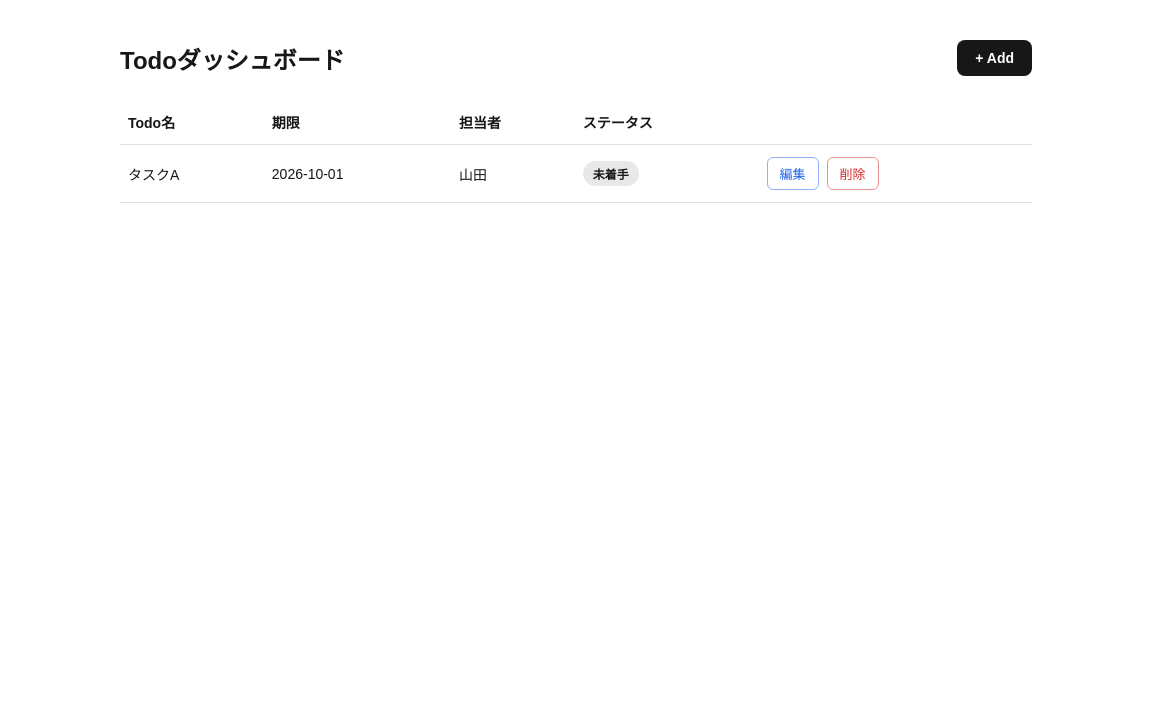
TodoDashboard › opens the modal on Add click, and adds the saved todo to the list on success
The width and height of the screenshot is (1152, 720).
Click the button "+ Add": (995, 58) [957, 40, 1032, 76]
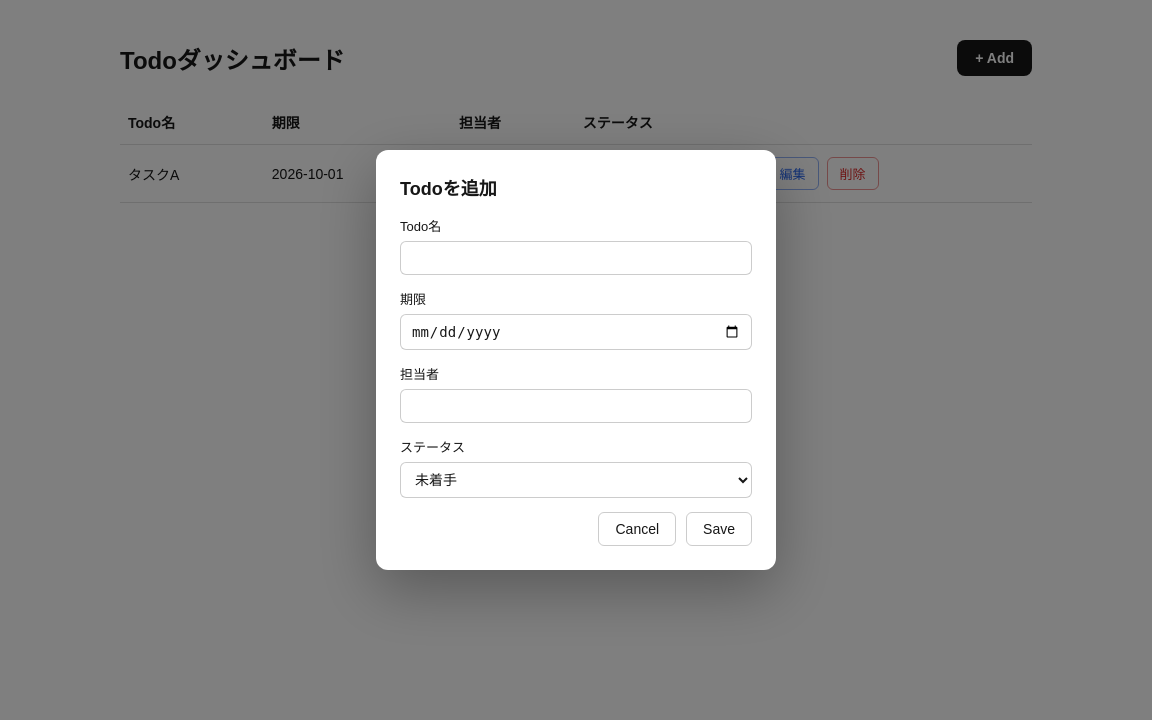
Check: the heading "Todoを追加" is shown, box [400, 179, 497, 199]
In the field labelled "Todo名": (576, 258) [400, 241, 752, 275], type "新規タスク"
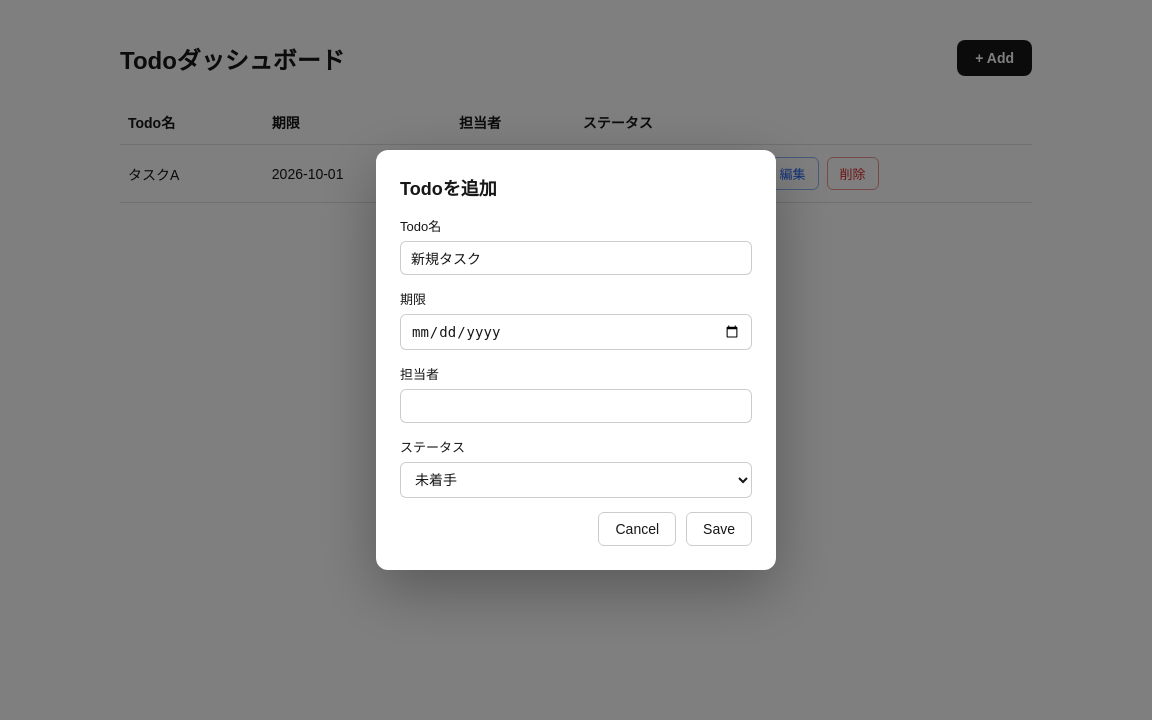
In the date field labelled "期限": (576, 332) [400, 314, 752, 350], type "2026-12-01"
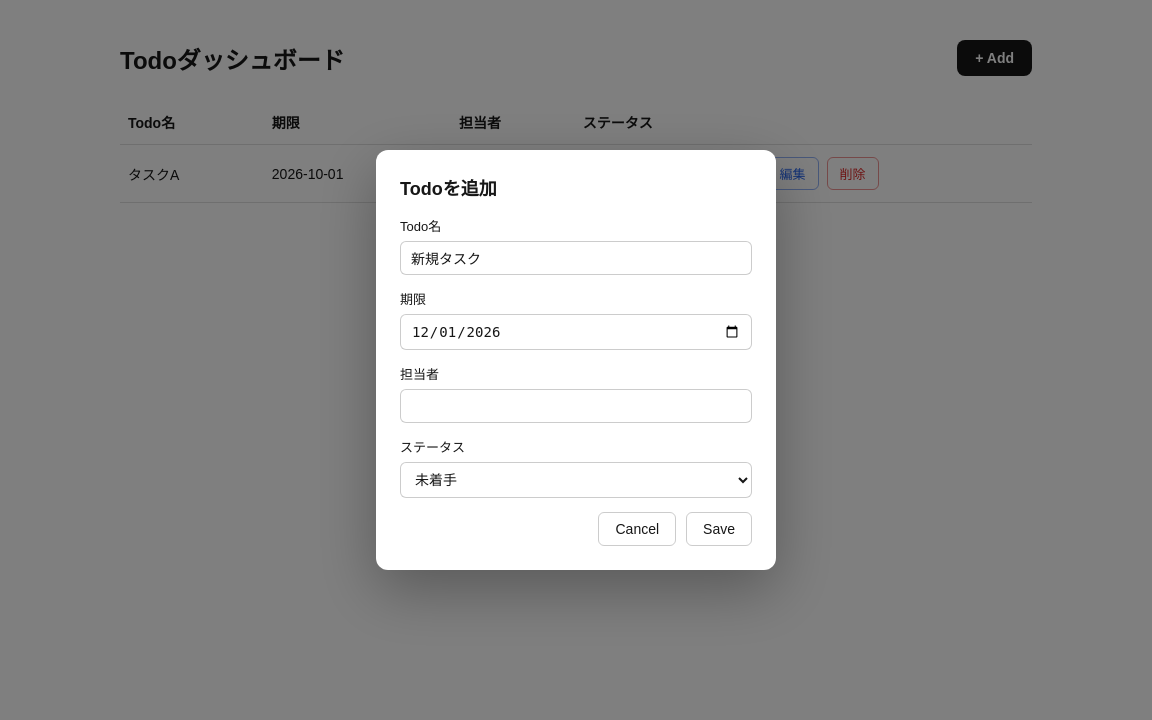
In the field labelled "担当者": (576, 406) [400, 389, 752, 423], type "担当太郎"
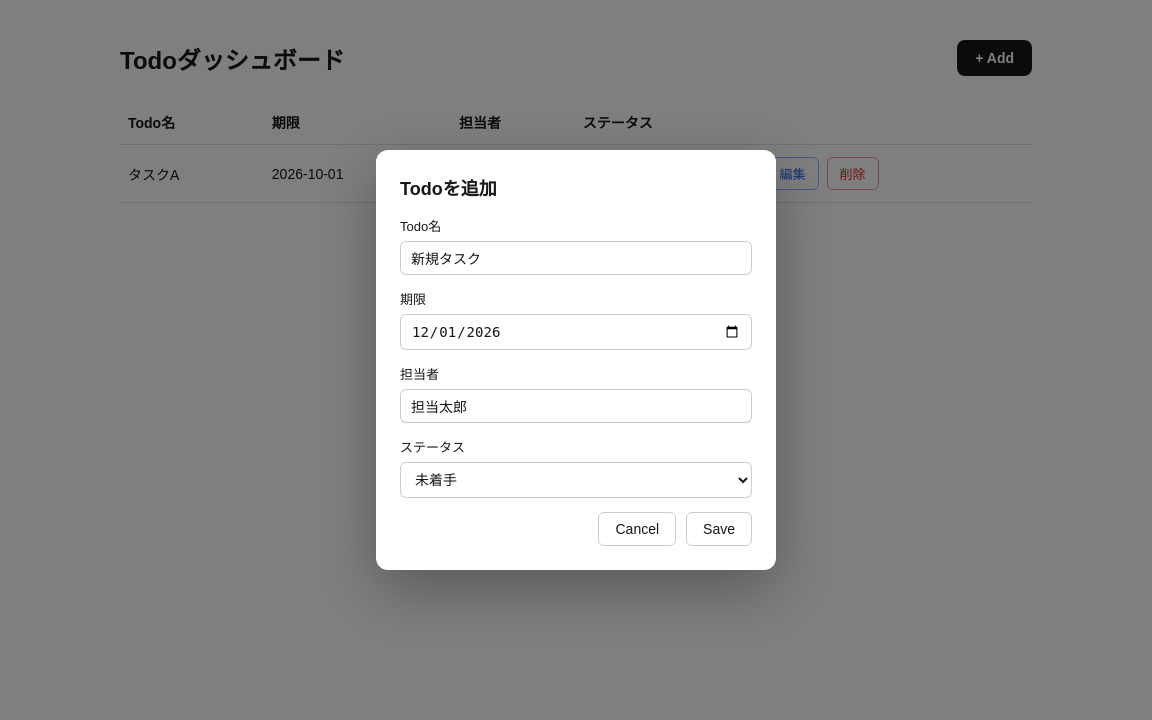
Click the button "Save": (719, 529) [686, 512, 752, 546]
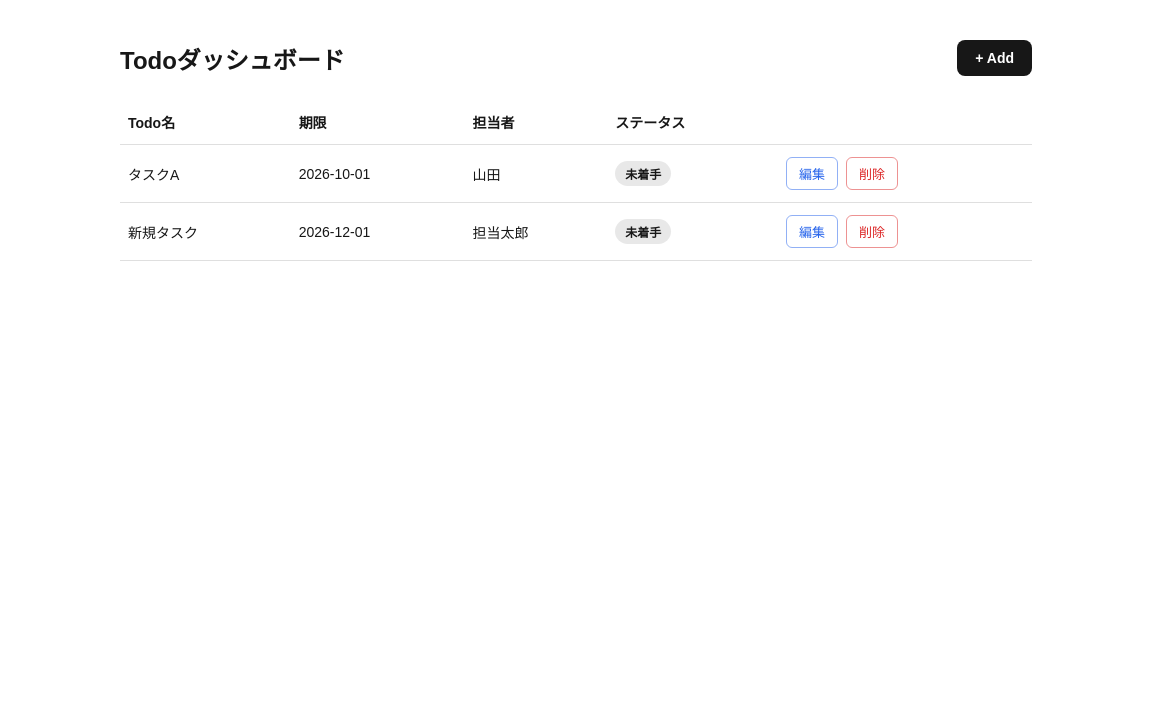
Check: the text "タスクA" is shown, box [120, 144, 291, 202]
Check: the heading "Todoを追加" is gone
Check: the text "新規タスク" is shown, box [120, 202, 291, 260]
